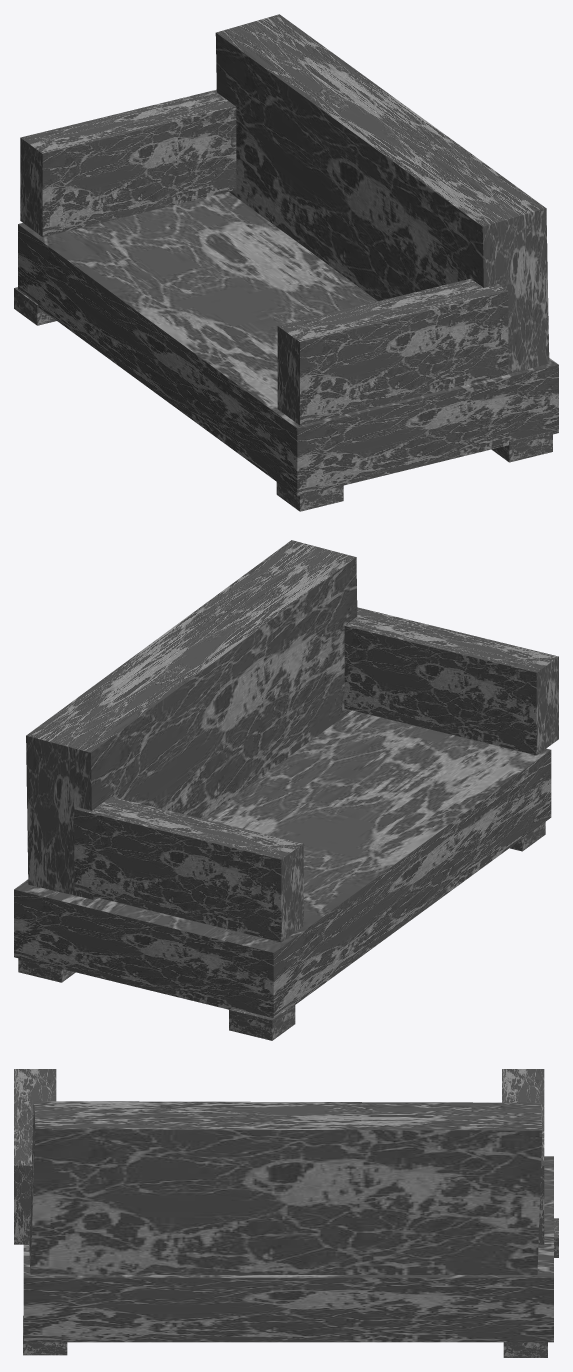
The model's file is officesofa.fbx.
The picture shows the model from 3 angles, top to bottom: view 1: azimuth 30°, elevation 25°; view 2: azimuth 150°, elevation 25°; view 3: azimuth 270°, elevation 25°; orthographic projection. The views are drawn at different scales.
Parts seen in each view (by area): view 1: Box006; view 2: Box006; view 3: Box006.
Boxes of the visible parts, left/top/right/bottom form: Box006: left=14, top=14, right=558, bottom=511; Box006: left=14, top=540, right=558, bottom=1040; Box006: left=14, top=1069, right=558, bottom=1357.
Bounding box in the file's own units: 58.46 × 50.7 × 110.
Materials: 1 (1 with a texture image).
